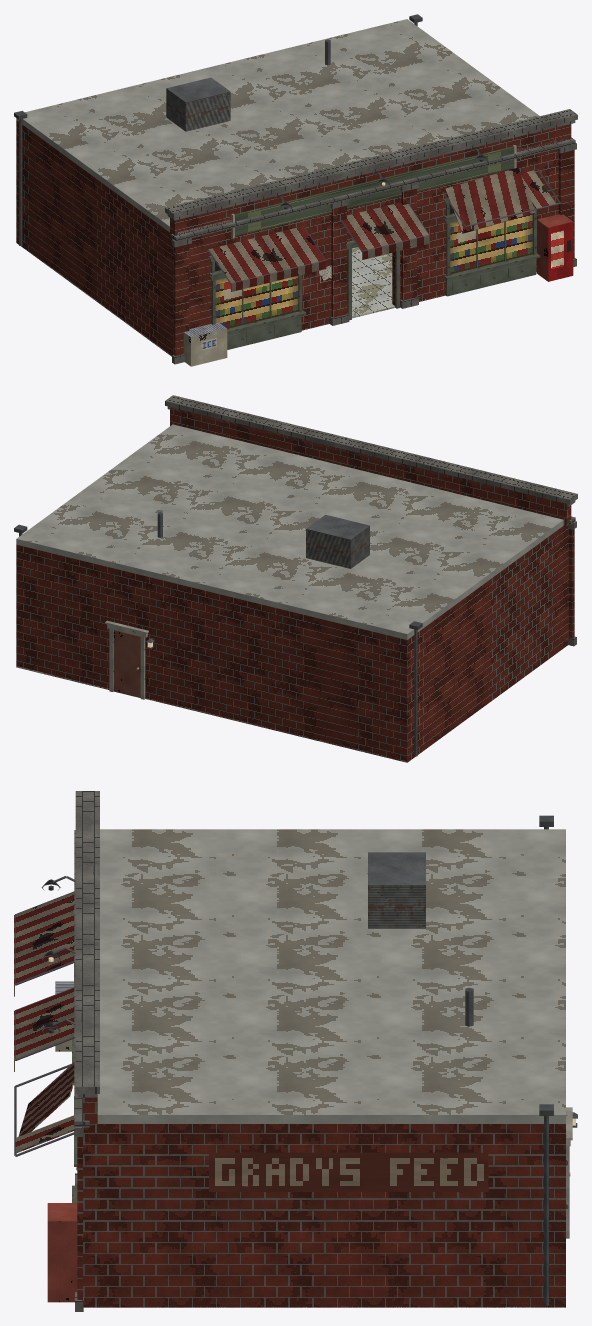
Rendered from grady_store.glb.
3 renders of one model, top to bottom at view 1: azimuth 30°, elevation 25°; view 2: azimuth 150°, elevation 25°; view 3: azimuth 270°, elevation 25°, orthographic. The views are drawn at different scales.
Parts seen in each view (by area): view 1: shell-col, detail; view 2: shell-col, detail; view 3: shell-col, detail.
Part boxes in pixels (left/top/right/bottom): shell-col: left=16, top=19, right=571, bottom=356; detail: left=14, top=14, right=577, bottom=366; shell-col: left=16, top=407, right=571, bottom=762; detail: left=14, top=395, right=577, bottom=756; shell-col: left=83, top=829, right=565, bottom=1307; detail: left=14, top=791, right=577, bottom=1311.
Bounding box in the file's own units: 14.5 × 5.6 × 11.68.
30 materials, 30 textured.
